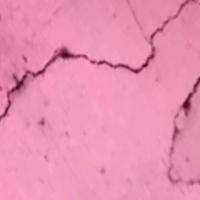crack: (0, 33, 196, 160)
